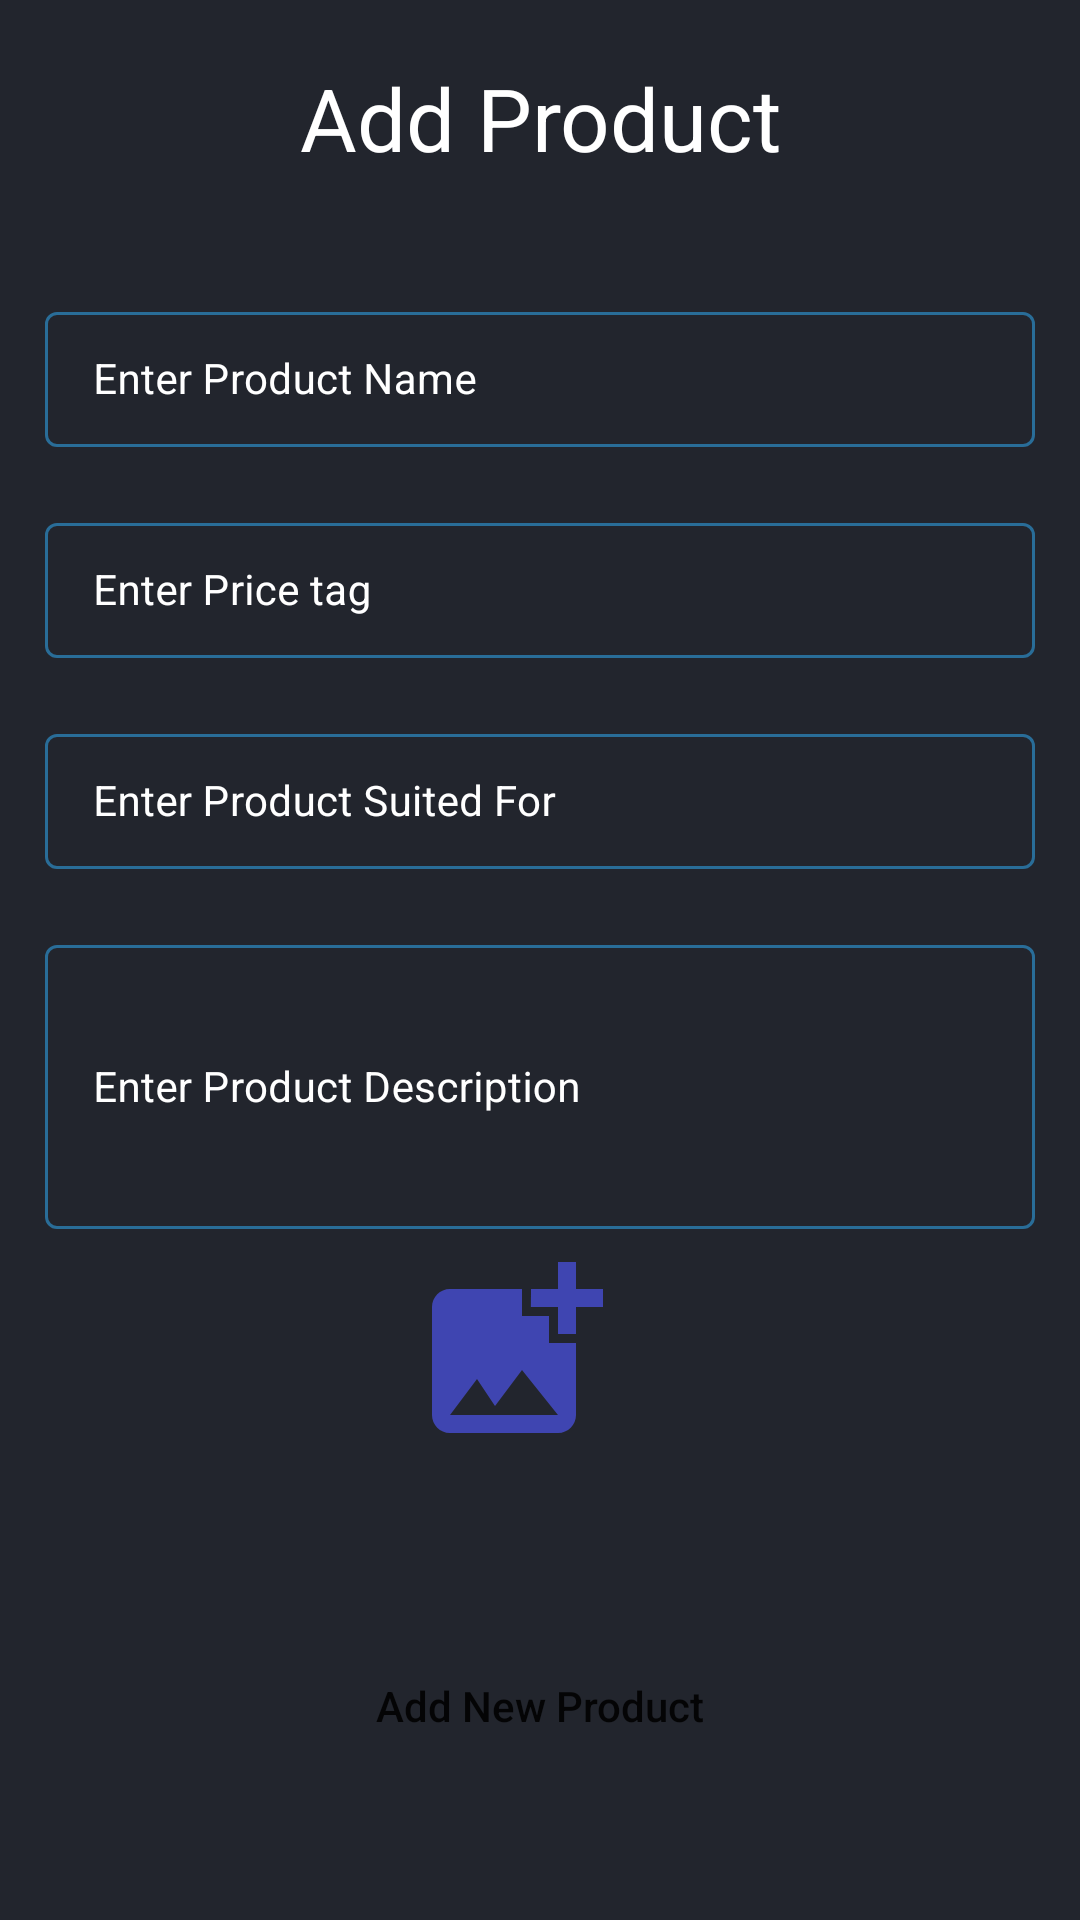

Screen size 1080px×1920px. Icon name, then its center in pixels as [x,y]:
add photo alternate: [517,1347]
